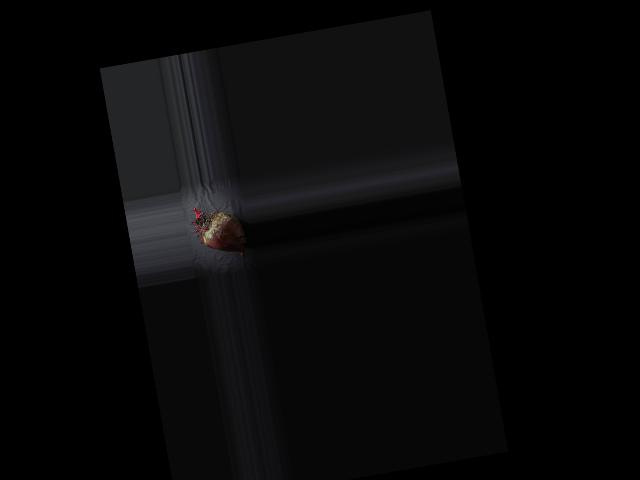beet: (188, 199, 249, 266)
